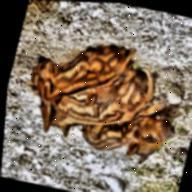boar: (81, 100, 188, 183)
